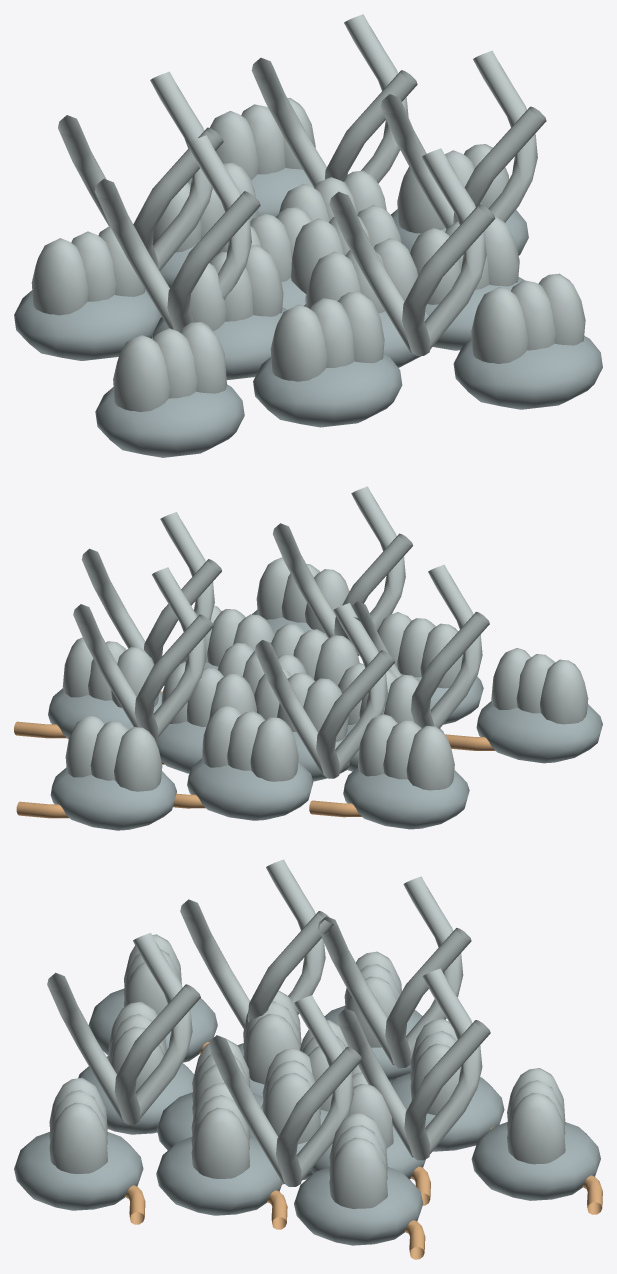
File: bio_acid_mat_19_far.glb
The picture shows the model from 3 angles, top to bottom: view 1: azimuth 30°, elevation 25°; view 2: azimuth 150°, elevation 25°; view 3: azimuth 270°, elevation 25°; orthographic projection. The views are drawn at different scales.
Visible parts, largest first — view 1: Spiral filament.006, Spiral filament.012, Spiral filament, Spiral filament.009, Spiral filament.003, Reaction vesicle.030, Reaction vesicle.036, Reaction vesicle.021, Microbial cushion.010, Microbial cushion.007, Microbial cushion.012, Microbial cushion.009 (+15 smaller); view 2: Spiral filament.009, Spiral filament.003, Spiral filament.006, Spiral filament.012, Spiral filament, Reaction vesicle.018, Reaction vesicle.027, Reaction vesicle.033, Reaction vesicle.036, Microbial cushion.006, Microbial cushion.011, Microbial cushion.009 (+18 smaller); view 3: Spiral filament.006, Spiral filament, Spiral filament.009, Spiral filament.003, Spiral filament.012, Microbial cushion.011, Microbial cushion.010, Microbial cushion.008, Microbial cushion.005, Reaction vesicle.024, Reaction vesicle.030, Reaction vesicle.033 (+20 smaller).
Part boxes in pixels (box(x1,y1,x2,y2)): Spiral filament.006: box(329, 148, 495, 355); Spiral filament.012: box(94, 135, 260, 332); Spiral filament: box(380, 50, 546, 228); Spiral filament.009: box(251, 14, 417, 187); Spiral filament.003: box(58, 71, 223, 270); Reaction vesicle.030: box(471, 273, 585, 363); Reaction vesicle.036: box(113, 322, 226, 411); Reaction vesicle.021: box(270, 291, 384, 381); Microbial cushion.010: box(453, 336, 602, 409); Microbial cushion.007: box(253, 354, 402, 427); Microbial cushion.012: box(95, 384, 244, 457); Microbial cushion.009: box(14, 289, 161, 360); Spiral filament.009: box(73, 567, 213, 740); Spiral filament.003: box(254, 603, 394, 778); Spiral filament.006: box(273, 486, 412, 655); Spiral filament.012: box(351, 564, 489, 728); Spiral filament: box(81, 512, 221, 685); Reaction vesicle.018: box(202, 705, 298, 781); Reaction vesicle.027: box(358, 714, 454, 790); Reaction vesicle.033: box(65, 715, 162, 791); Reaction vesicle.036: box(491, 648, 588, 724); Microbial cushion.006: box(187, 758, 313, 820); Microbial cushion.011: box(50, 767, 176, 830); Microbial cushion.009: box(343, 767, 469, 829); Spiral filament.006: box(47, 933, 200, 1124); Spiral filament: box(208, 995, 361, 1186); Spiral filament.009: box(337, 968, 490, 1160); Spiral filament.003: box(317, 876, 471, 1068); Spiral filament.012: box(180, 859, 333, 1028); Microbial cushion.011: box(471, 1122, 600, 1200); Microbial cushion.010: box(14, 1132, 143, 1210); Microbial cushion.008: box(294, 1166, 423, 1245); Microbial cushion.005: box(156, 1137, 282, 1215); Reaction vesicle.024: box(329, 1112, 387, 1208); Reaction vesicle.030: box(49, 1077, 107, 1173); Reaction vesicle.033: box(507, 1068, 565, 1164).
Bounding box in the file's own units: 1.97 × 0.7408 × 2.
